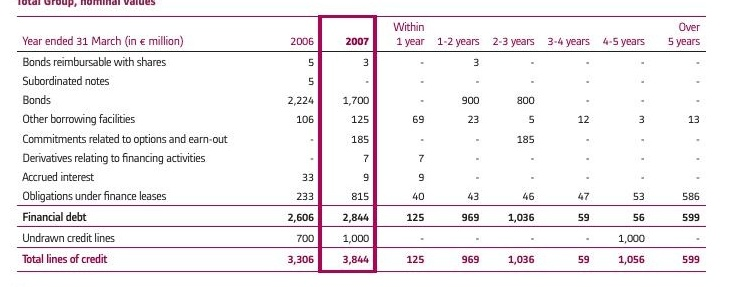table: (0, 0, 729, 287)
